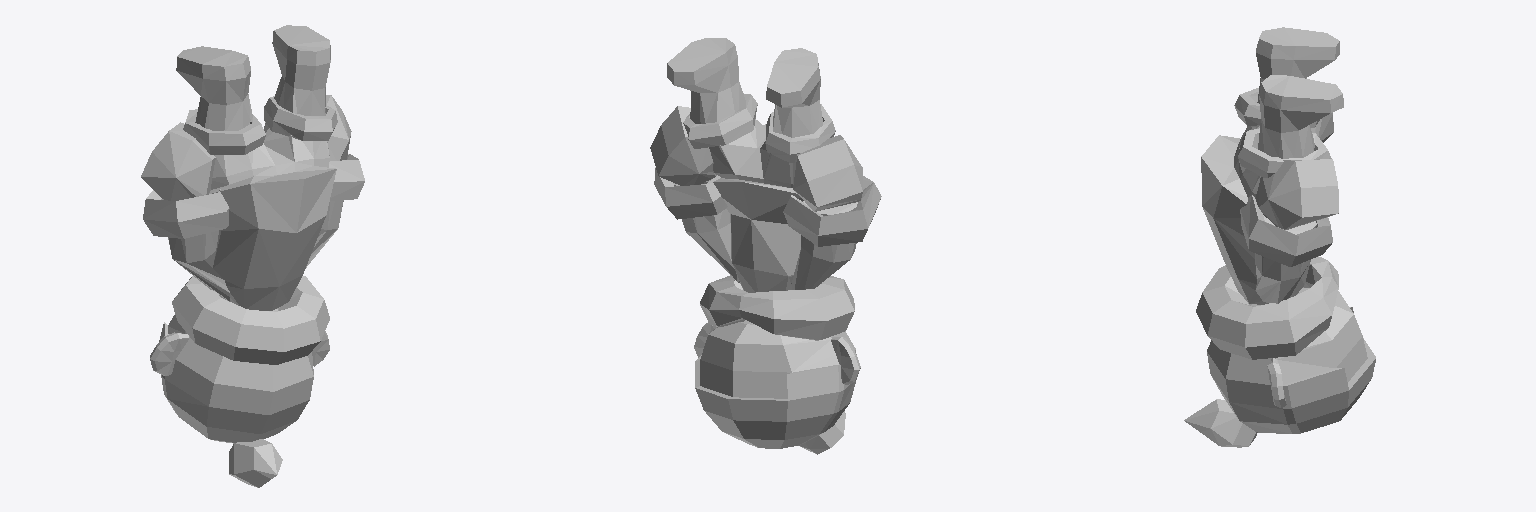
Rendered from eikadebil_000131.obj.
The picture shows the model from 3 angles: view 1: azimuth 30°, elevation 25°; view 2: azimuth 150°, elevation 25°; view 3: azimuth 270°, elevation 25°; orthographic projection.
Visible parts, largest first — view 1: Cylinder; view 2: Cylinder; view 3: Cylinder.
Boxes of the visible parts, <box> form: Cylinder: <box>141,25,364,487</box>; Cylinder: <box>650,38,881,454</box>; Cylinder: <box>1184,27,1375,447</box>.
Bounding box in the file's own units: 29.99 × 55.37 × 23.51.